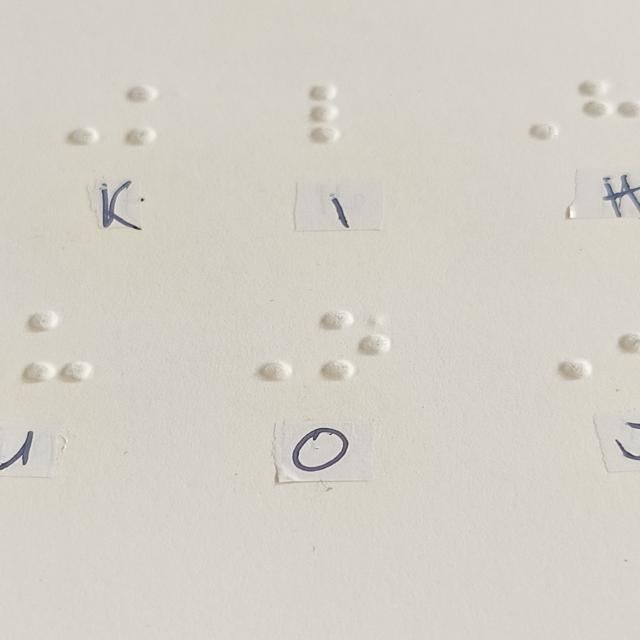capital_sign: (223, 308, 293, 381), (522, 308, 592, 381), (32, 85, 103, 147), (500, 81, 562, 141)
letter_H: (578, 78, 640, 142)
letter_K: (124, 85, 195, 147)
letter_O: (322, 308, 392, 381)
letter_l: (307, 85, 378, 146)
letter_u: (24, 310, 93, 381)
